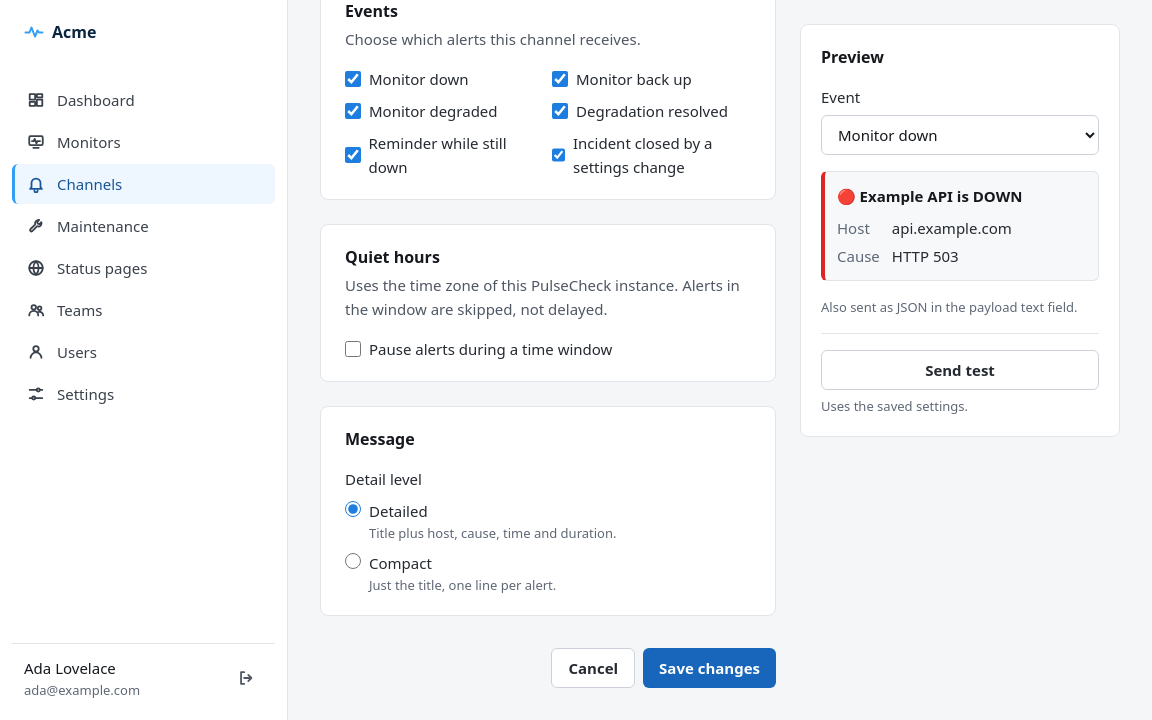
Scenario: NotificationChannelPage › keeps saved webhook headers unless they are replaced
(page scrolled)
Click the button "Save changes": (710, 668) [643,648,776,688]
(page scrolled)
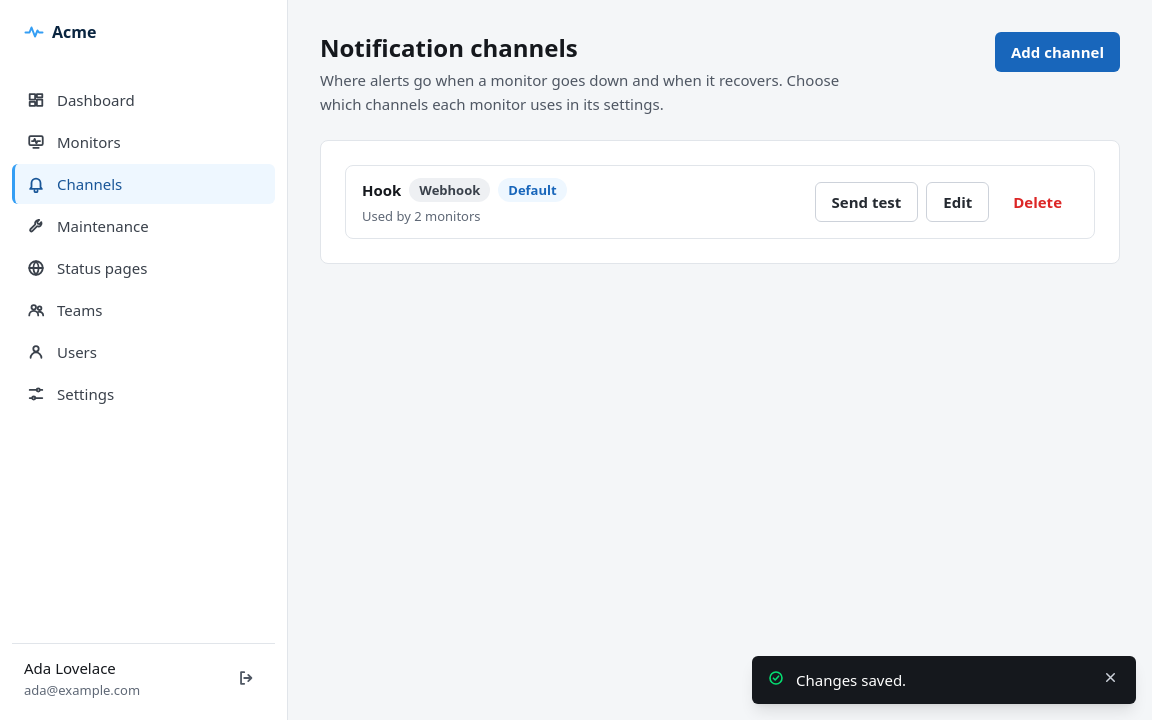
Expected: the text "Changes saved." is shown, [796,670,906,690]
